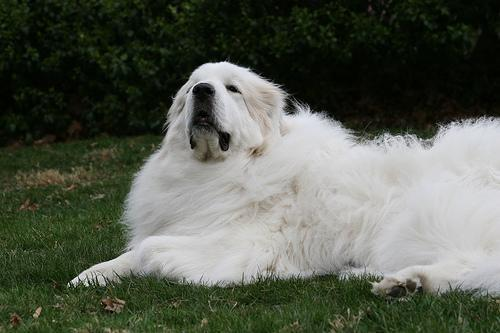Great_Pyrenees: (64, 57, 499, 301)
